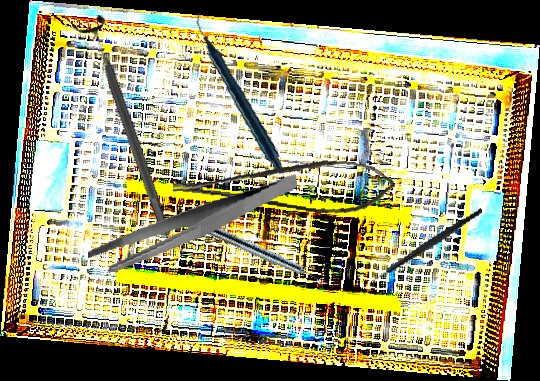Chopper: (360, 207, 494, 291)
Dressing Forceps: (81, 174, 305, 275)
Fixation Ring: (70, 12, 184, 243)
Handpiece: (179, 13, 302, 173), (181, 213, 329, 289)
Micro Scissor: (171, 140, 396, 223)
